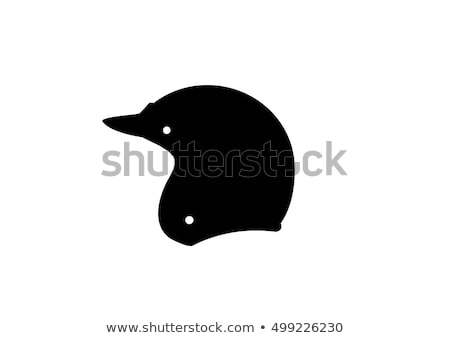with_helmet: (102, 82, 299, 247)
